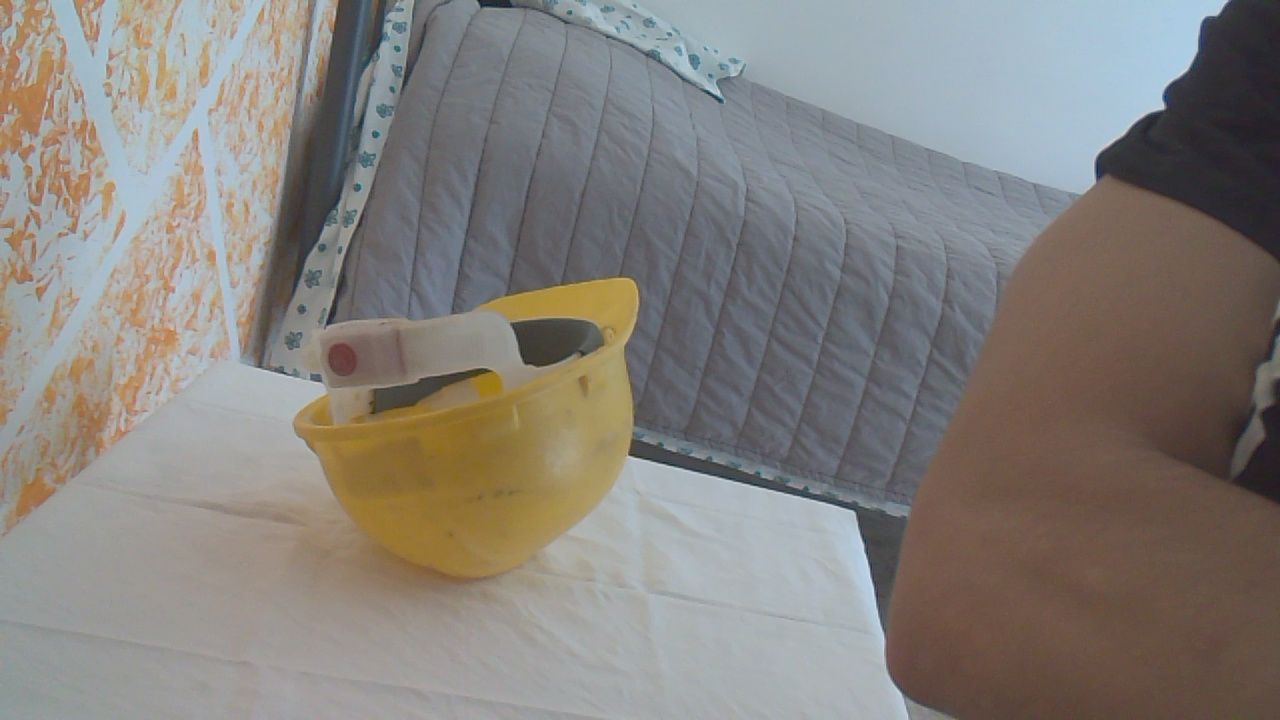Helmet: (268, 228, 703, 595)
